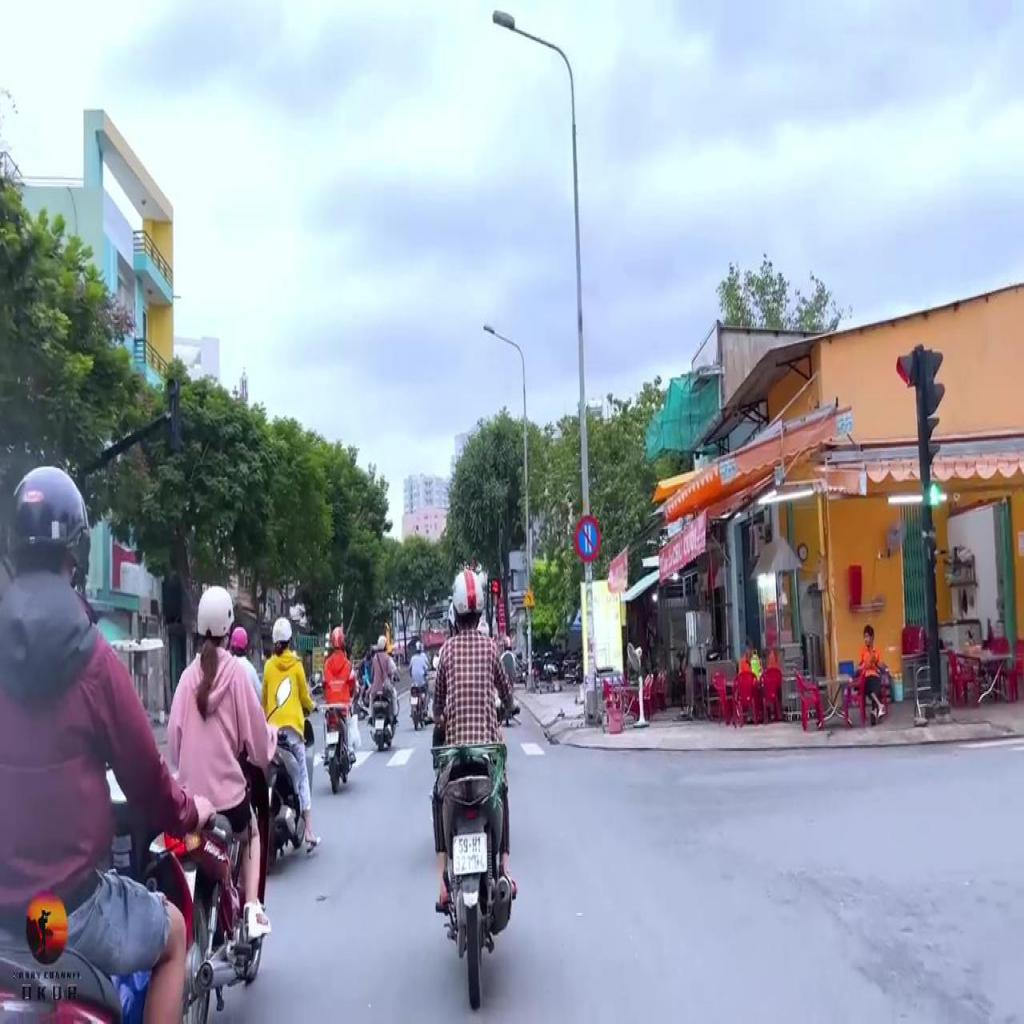cam_do_xe: (574, 512, 602, 566)
cho_ngoat_nguy_hiem_ben_trai: (523, 584, 536, 608)
